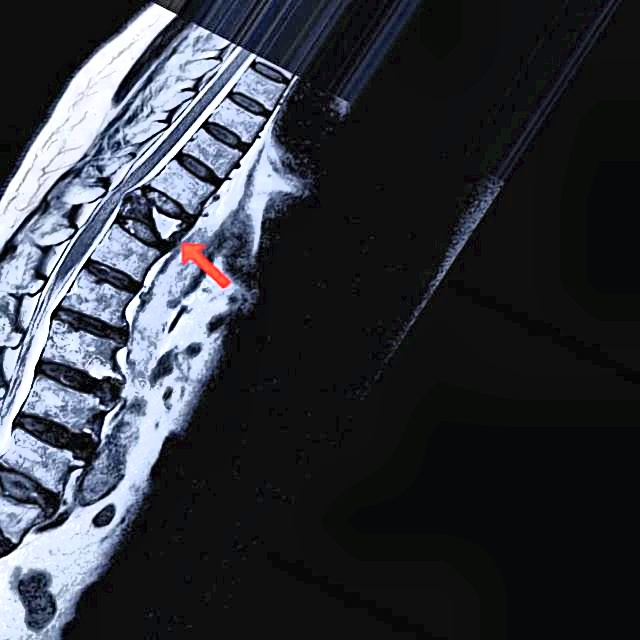Comminuted: (104, 181, 197, 254)
